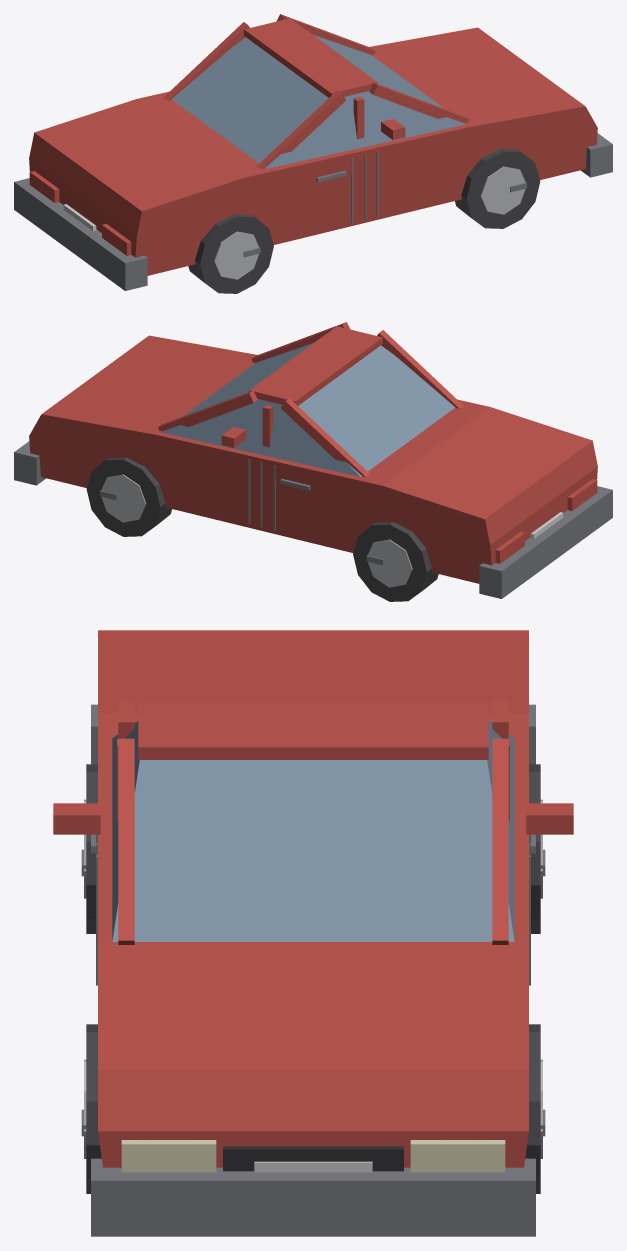
Rendered from Araba_Sedan_Kirmizi.glb.
The picture shows the model from 3 angles, top to bottom: view 1: azimuth 30°, elevation 25°; view 2: azimuth 150°, elevation 25°; view 3: azimuth 270°, elevation 25°; orthographic projection. The views are drawn at different scales.
Parts seen in each view (by area): view 1: Araba_Sedan_Kirmizi, Wheel_0, Wheel_2; view 2: Araba_Sedan_Kirmizi, Wheel_3, Wheel_1; view 3: Araba_Sedan_Kirmizi, Wheel_0, Wheel_1, Wheel_2, Wheel_3.
Boxes of the visible parts, x1,y1,x2,y2 form: Araba_Sedan_Kirmizi: [14, 14, 612, 290]; Wheel_0: [455, 149, 540, 228]; Wheel_2: [188, 214, 273, 293]; Araba_Sedan_Kirmizi: [14, 322, 612, 598]; Wheel_3: [353, 522, 438, 601]; Wheel_1: [86, 457, 171, 536]; Araba_Sedan_Kirmizi: [53, 630, 573, 1236]; Wheel_0: [81, 1024, 101, 1193]; Wheel_1: [525, 1024, 545, 1193]; Wheel_2: [81, 764, 97, 933]; Wheel_3: [529, 764, 545, 933].
Size of the model in its own units: 4.76 by 1.56 by 2.2.
